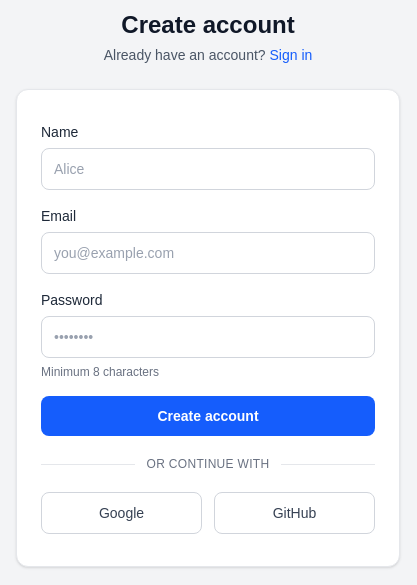
Test case: RegisterPage › disables the button while the request is in flight
The image size is (417, 585).
In the field labelled "Email": (208, 253) [41,232,375,274], type "bob@example.com"
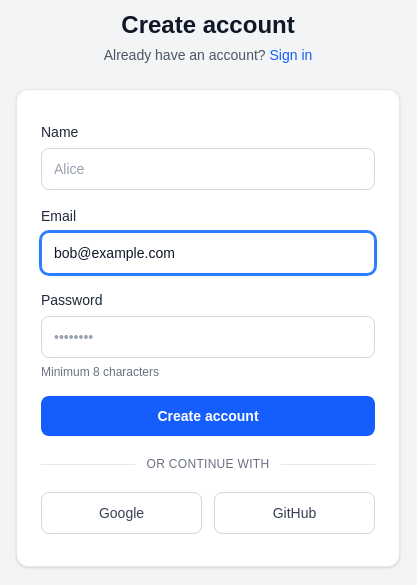
In the password field labelled "Password": (208, 337) [41,316,375,358], type "securepass"
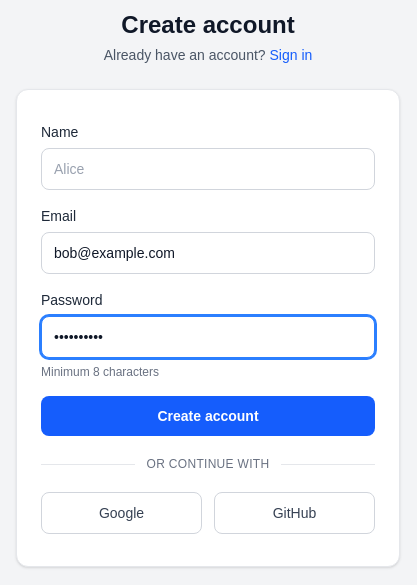
Click the button "Create account": (208, 416) [41,396,375,436]
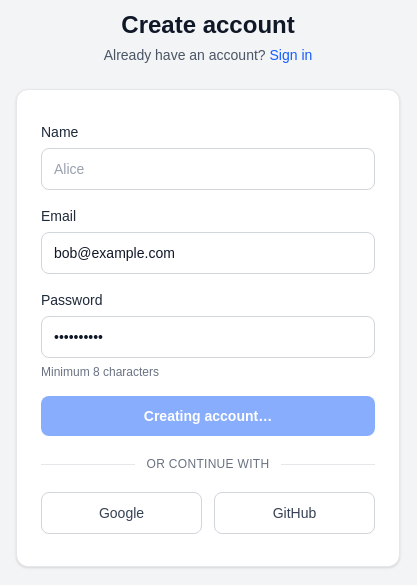
Now the button "Creating account…" is disabled, box [41,396,375,436]
